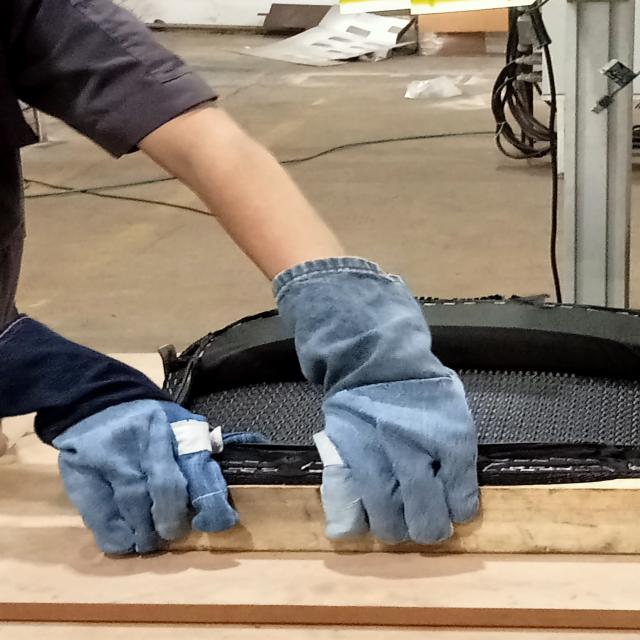Gloves-Detection: (258, 271, 490, 537), (4, 321, 215, 542)
